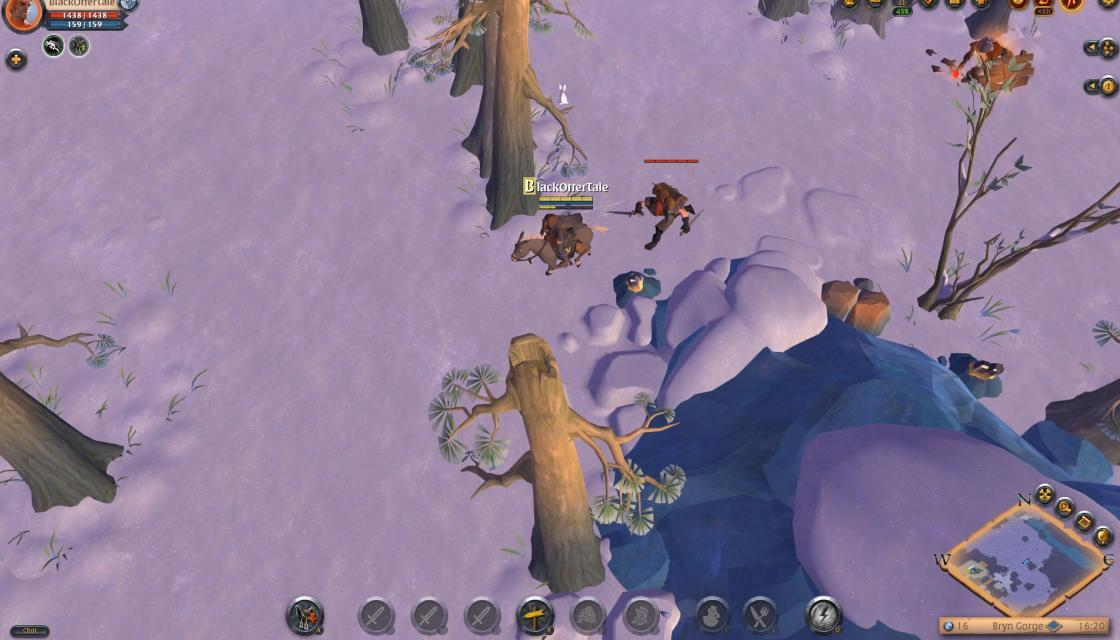copperore: (949, 351, 1005, 400), (613, 269, 662, 309)
limestone: (818, 276, 892, 340)
